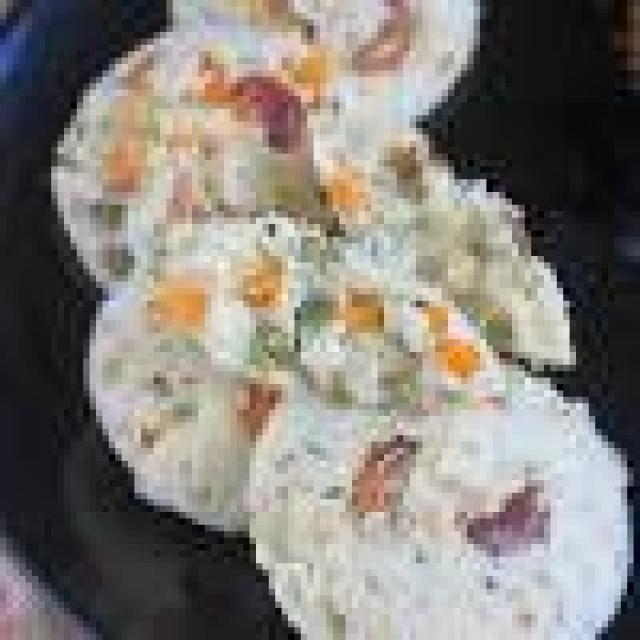Wet Waste: (44, 6, 473, 326), (77, 211, 499, 525), (231, 326, 634, 634)
